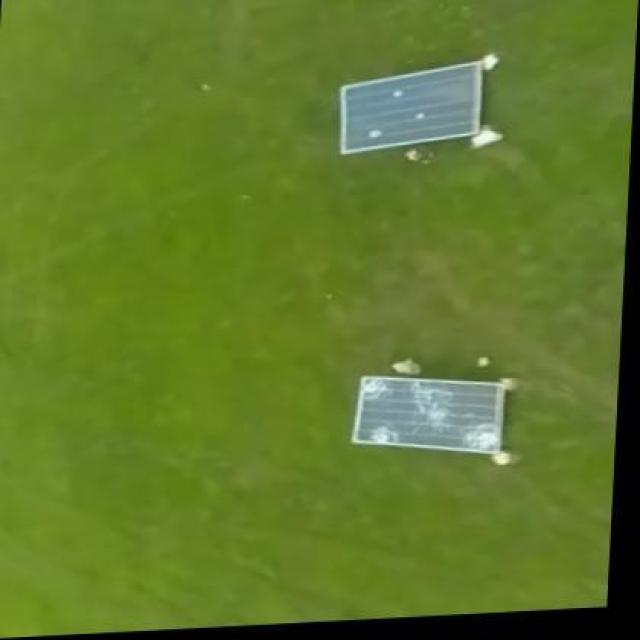cracked: (348, 373, 510, 462)
soiled: (340, 59, 490, 152)
